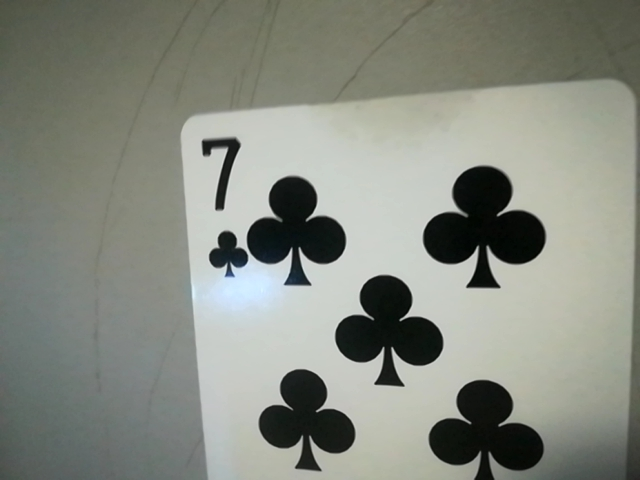mh 7: (184, 122, 251, 286)
